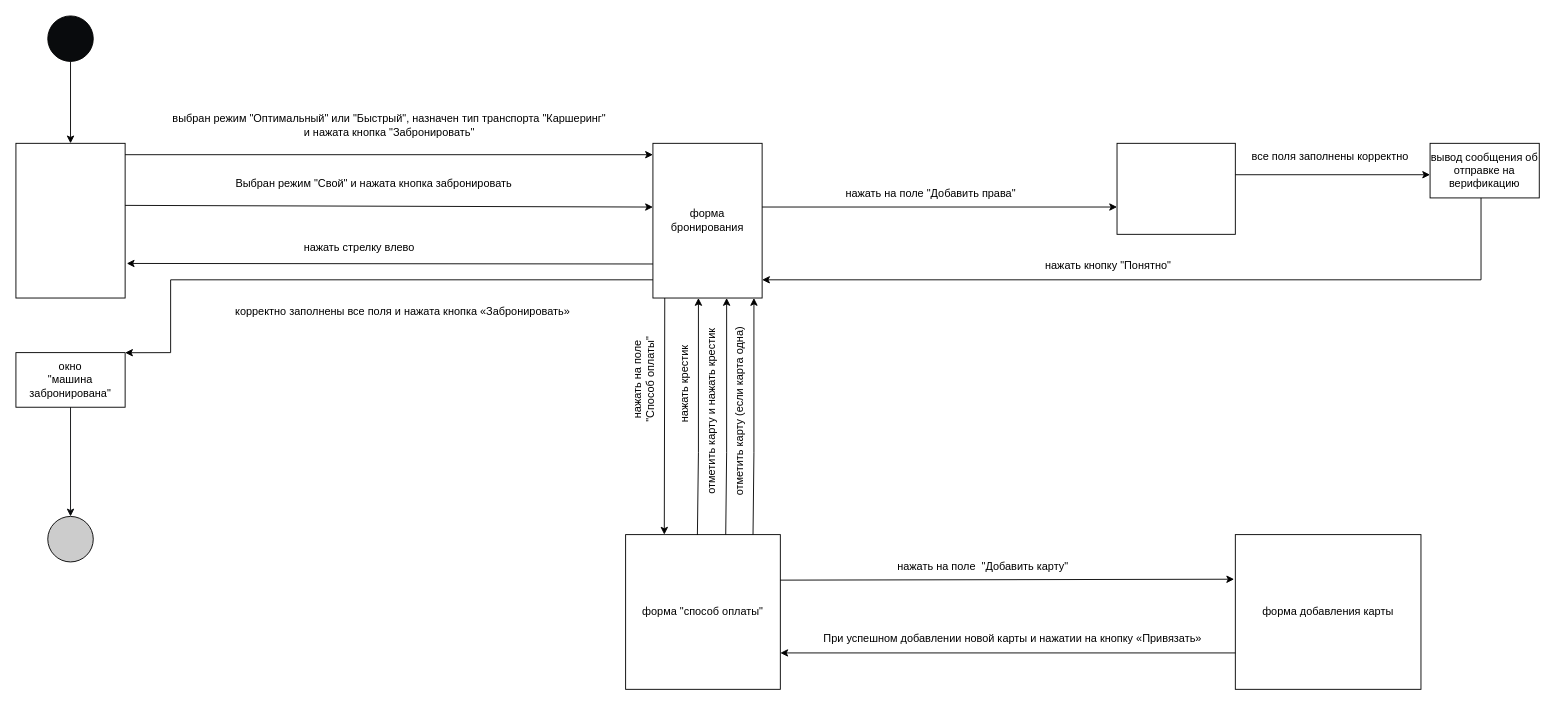
This 1555x705 diagram has some shape labels left out. The shapes that lost their labels are listed below. From the top down, each one's centre as x and y in pixels, then its label:
At point (1175, 188): "форма добавления прав".
At point (70, 220): "аренда машины".
